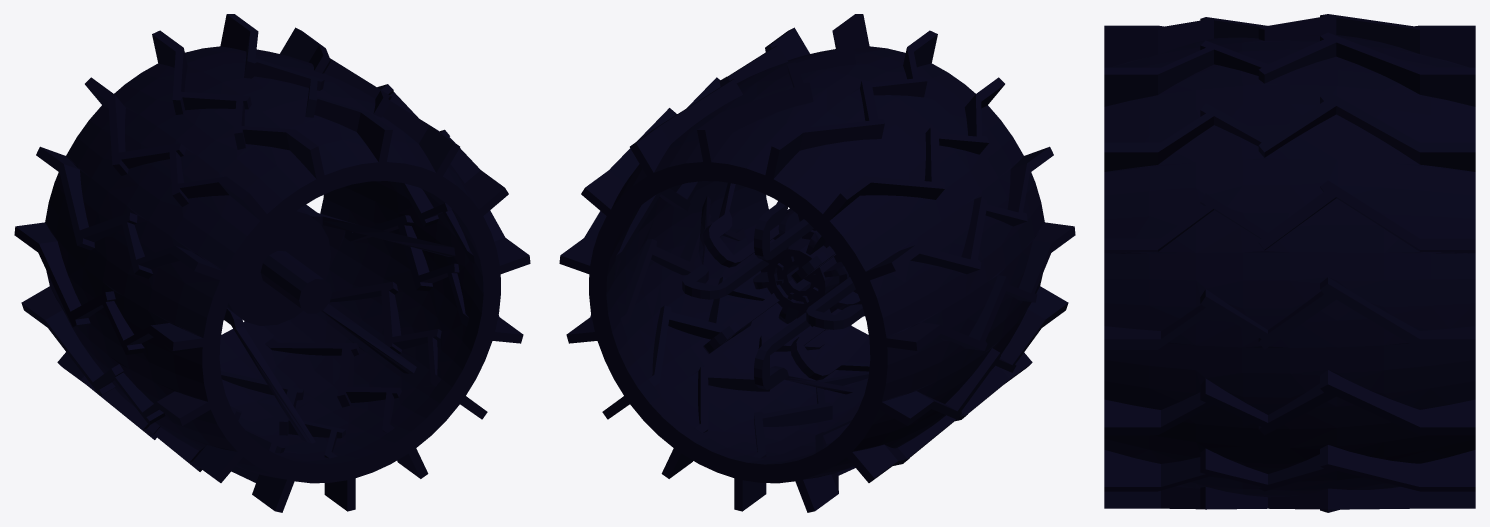
File: Mars6Mars_Rover__Curiosity_1_0__-_1__Rover_Wheel_right_2.001.dae
3 views of the same model, side by side, from view 1: azimuth 30°, elevation 25°; view 2: azimuth 150°, elevation 25°; view 3: azimuth 270°, elevation 25° (orthographic). The views are drawn at different scales.
Visible parts, largest first — view 1: tmp_export_Mars6Mars_Rover__Curiosity_1_0__-_1__Rover_Wheel_; view 2: tmp_export_Mars6Mars_Rover__Curiosity_1_0__-_1__Rover_Wheel_; view 3: tmp_export_Mars6Mars_Rover__Curiosity_1_0__-_1__Rover_Wheel_.
Boxes of the visible parts, left/top/right/bottom form: tmp_export_Mars6Mars_Rover__Curiosity_1_0__-_1__Rover_Wheel_: left=14, top=14, right=530, bottom=512; tmp_export_Mars6Mars_Rover__Curiosity_1_0__-_1__Rover_Wheel_: left=559, top=14, right=1075, bottom=512; tmp_export_Mars6Mars_Rover__Curiosity_1_0__-_1__Rover_Wheel_: left=1104, top=14, right=1475, bottom=512.
Size of the model in its own units: 1.01 by 0.7474 by 1.
